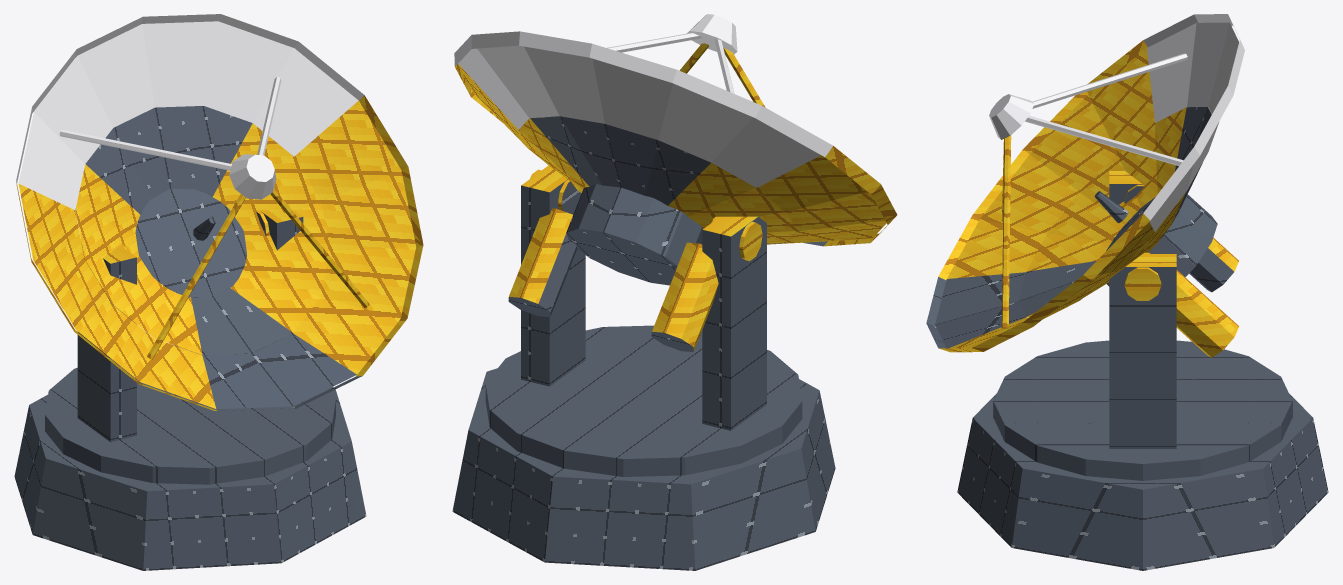
File: exterior_dish.glb
The picture shows the model from 3 angles, left to right: view 1: azimuth 30°, elevation 25°; view 2: azimuth 150°, elevation 25°; view 3: azimuth 270°, elevation 25°; orthographic projection. The views are drawn at different scales.
Parts seen in each view (by area): view 1: exterior_dish; view 2: exterior_dish; view 3: exterior_dish.
Boxes of the visible parts, x1,y1,x2,y2 form: exterior_dish: (14,14,423,570); exterior_dish: (452,14,897,570); exterior_dish: (926,14,1328,570).
Size of the model in its own units: 4.3 by 4.85 by 3.9.
3 materials, 2 textured.
